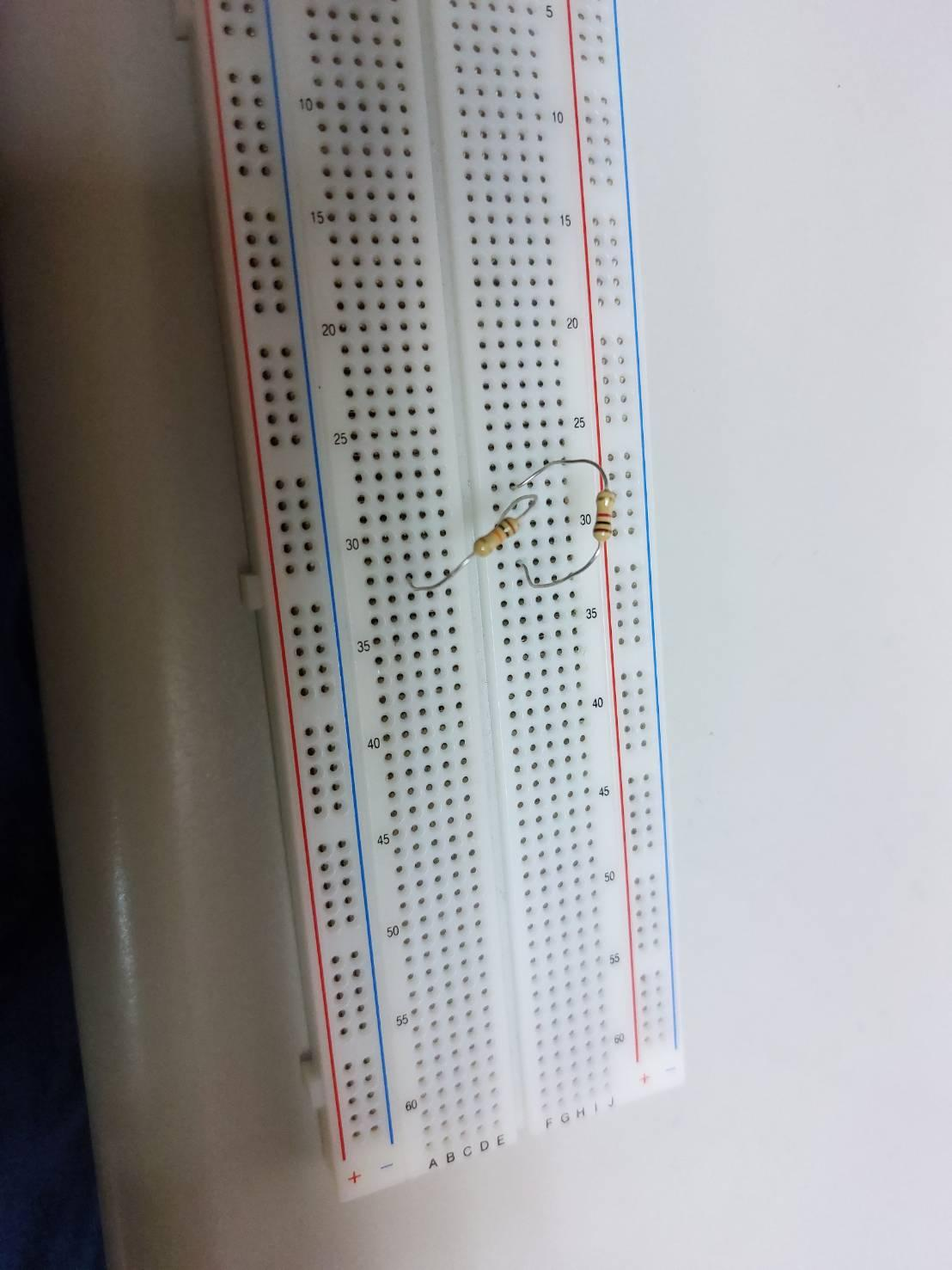resistor: (474, 517, 518, 558), (594, 486, 615, 543)
